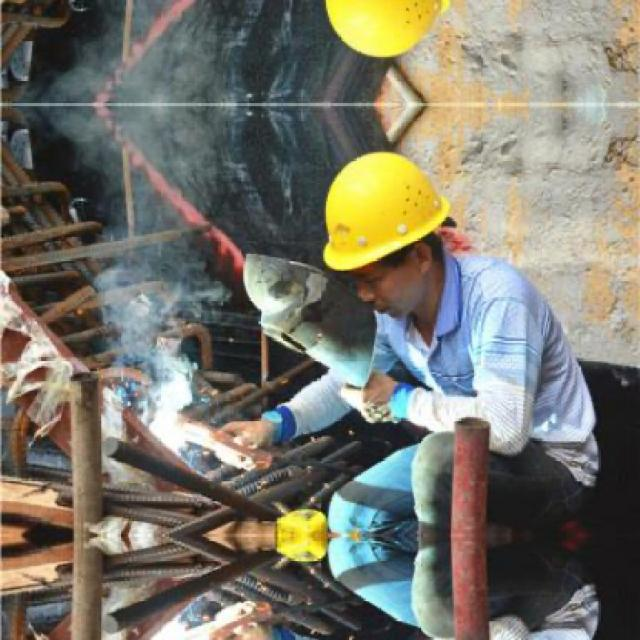helmet: (305, 151, 449, 317), (304, 0, 450, 57)
